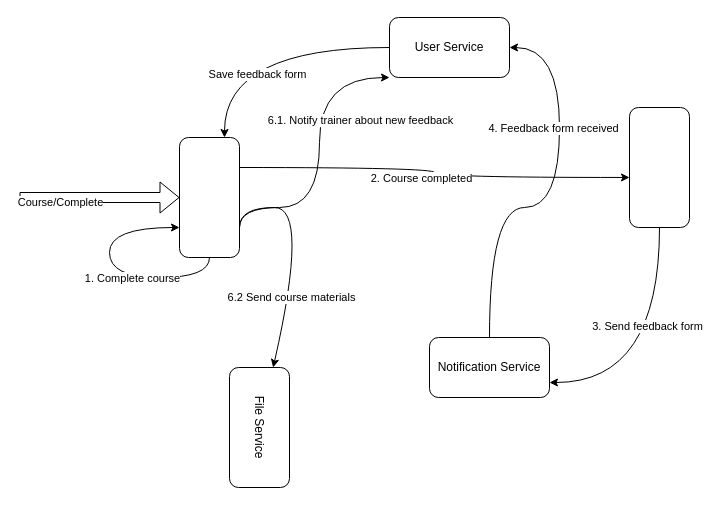
The diagram is 720 pixels wide and 505 high, and some of its shapes have lost their labels. Each missing label, with the centre of its shape:
"Event Service" goes at (x=209, y=197).
"Feedback Service" goes at (x=659, y=167).
